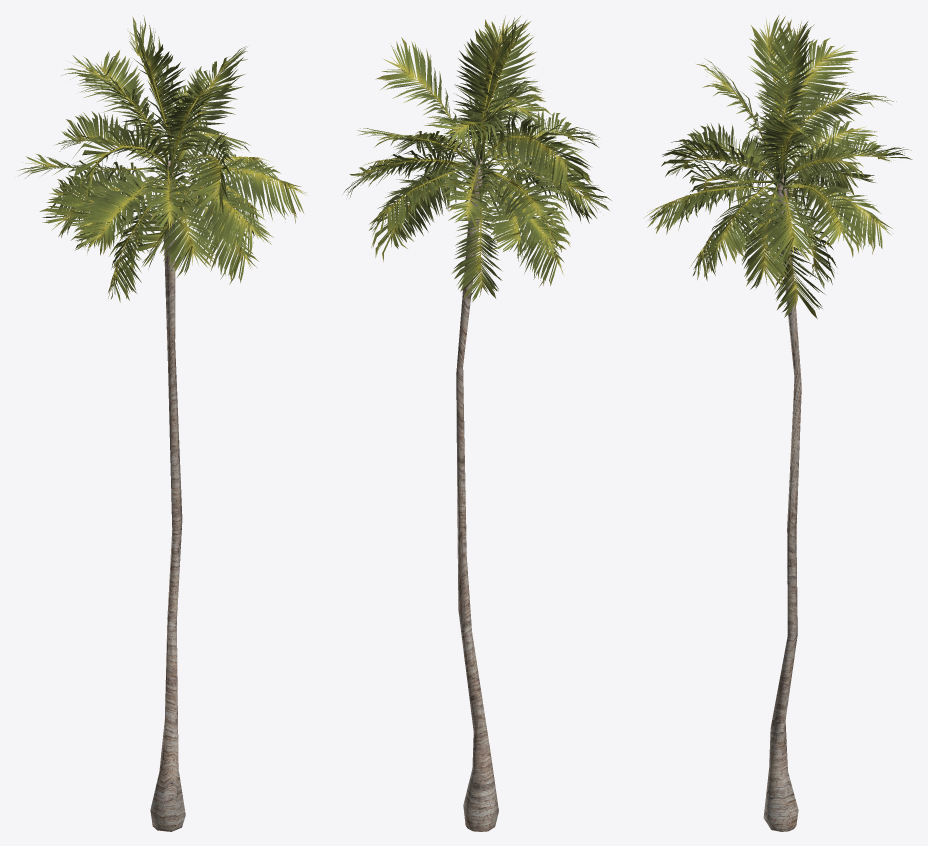
File: coconut_palm.glb
The picture shows the model from 3 angles, left to right: view 1: azimuth 30°, elevation 25°; view 2: azimuth 150°, elevation 25°; view 3: azimuth 270°, elevation 25°; orthographic projection. The views are drawn at different scales.
Parts seen in each view (by area): view 1: Coconut-tree_w; view 2: Coconut-tree_w; view 3: Coconut-tree_w.
Part boxes in pixels (box(x1,y1,x2,y2)): Coconut-tree_w: box(18, 15, 306, 831); Coconut-tree_w: box(343, 15, 611, 831); Coconut-tree_w: box(643, 14, 912, 831).
Size of the model in its own units: 3.58 by 11.96 by 3.7.
2 materials, 2 textured.
